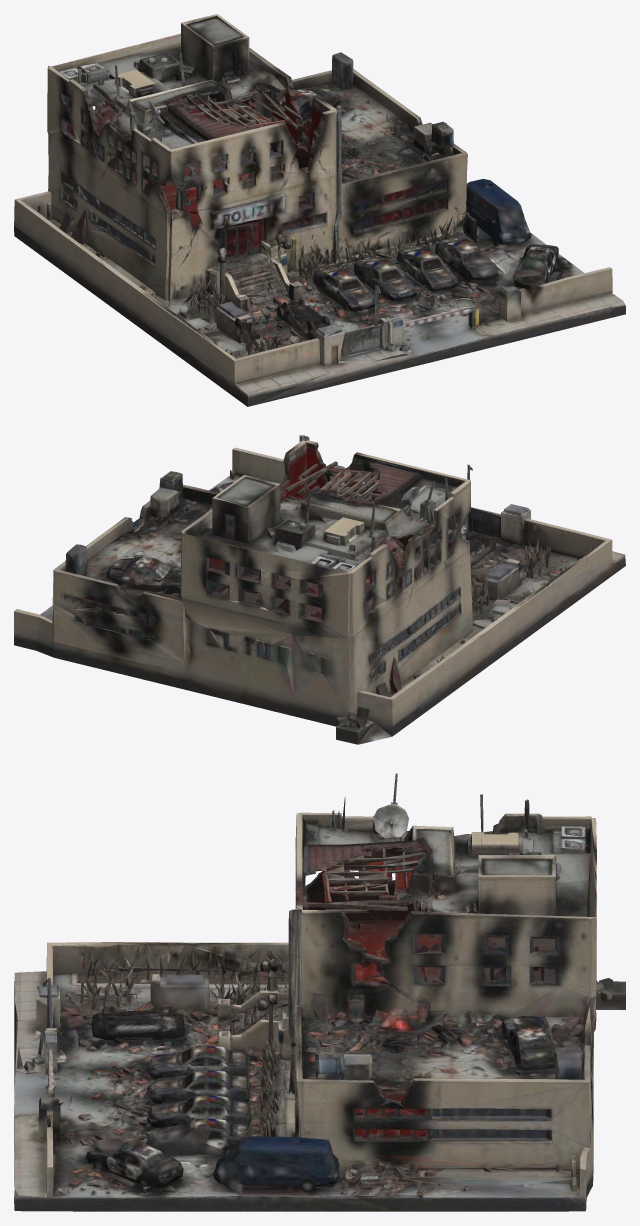
The model's file is polizia_dev.glb.
The picture shows the model from 3 angles, top to bottom: view 1: azimuth 30°, elevation 25°; view 2: azimuth 150°, elevation 25°; view 3: azimuth 270°, elevation 25°; orthographic projection. The views are drawn at different scales.
Parts seen in each view (by area): view 1: output_unwrapped; view 2: output_unwrapped; view 3: output_unwrapped.
Boxes of the visible parts, box(x1,y1,x2,y2) form: output_unwrapped: box(14, 14, 625, 406); output_unwrapped: box(14, 435, 625, 744); output_unwrapped: box(14, 773, 625, 1211).
Size of the model in its own units: 1.66 by 0.8025 by 1.9.
Materials: 1 (1 with a texture image).
